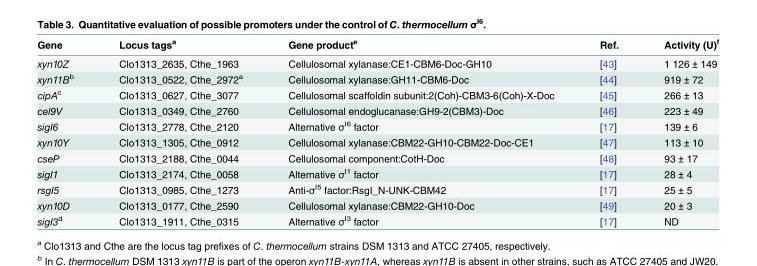table: (36, 36, 718, 227)
table column: (264, 36, 576, 227), (95, 36, 264, 227), (640, 36, 718, 227), (576, 36, 640, 227), (36, 36, 95, 227)
table column header: (36, 36, 718, 53)
table row: (36, 36, 718, 53), (36, 53, 718, 70), (36, 117, 718, 134), (36, 180, 718, 197), (36, 70, 718, 86), (36, 86, 718, 102), (36, 134, 718, 150), (36, 102, 718, 117), (36, 150, 718, 165), (36, 165, 718, 180), (36, 197, 718, 212), (36, 212, 718, 227)
